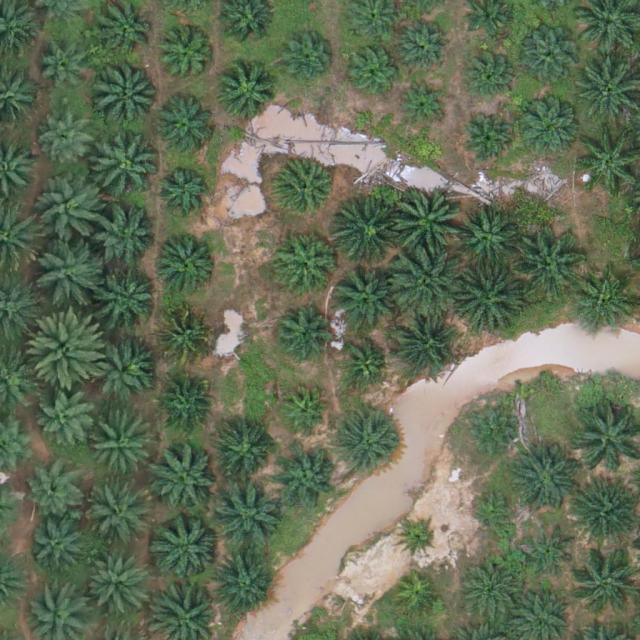Healthy: (31, 312, 109, 391), (331, 199, 402, 270), (569, 480, 639, 551), (509, 446, 579, 517), (452, 265, 522, 336), (212, 478, 283, 548), (150, 443, 221, 513), (153, 512, 223, 583), (32, 236, 102, 307), (94, 58, 164, 129), (90, 130, 161, 200), (36, 177, 107, 247), (514, 228, 584, 298), (394, 249, 464, 319), (394, 189, 464, 259), (84, 554, 147, 617), (574, 274, 637, 336), (393, 314, 455, 377), (332, 268, 394, 331), (337, 414, 399, 477), (460, 560, 523, 622), (278, 447, 340, 510), (212, 554, 274, 617), (157, 231, 219, 294), (95, 210, 158, 272), (99, 268, 161, 331), (89, 335, 152, 397), (90, 416, 152, 479), (87, 486, 149, 549), (518, 30, 580, 93), (517, 96, 580, 158), (456, 206, 518, 269), (216, 63, 278, 126), (155, 97, 217, 160), (276, 232, 338, 294), (275, 160, 337, 222), (28, 520, 83, 576), (523, 526, 578, 581), (464, 406, 519, 461), (274, 305, 329, 360), (219, 427, 274, 482), (27, 466, 82, 521), (348, 43, 403, 98), (463, 114, 518, 169), (161, 31, 216, 86), (156, 164, 211, 219), (38, 48, 93, 103), (158, 376, 212, 431), (38, 391, 92, 446), (280, 33, 334, 88), (400, 18, 454, 73), (461, 46, 515, 101), (42, 114, 96, 169)
Small: (401, 78, 448, 126), (341, 341, 388, 388), (282, 387, 329, 434), (471, 488, 518, 535), (399, 520, 439, 559)
Yellow: (156, 309, 211, 364), (394, 574, 441, 621)
